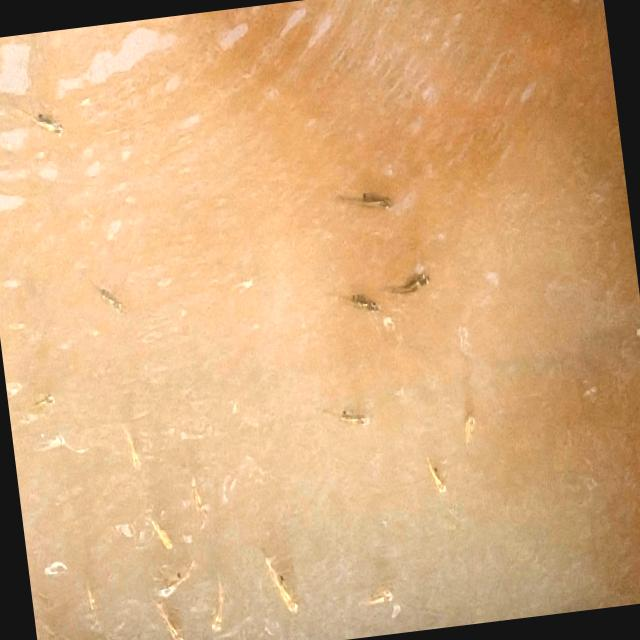Sivrisinek Baligi: (263, 548, 304, 622), (333, 178, 395, 225), (323, 390, 373, 445), (330, 278, 380, 326), (19, 95, 66, 142), (202, 578, 236, 637), (359, 572, 398, 622), (117, 421, 146, 478), (386, 268, 434, 300), (86, 286, 128, 322), (420, 452, 448, 506), (27, 381, 62, 424)
